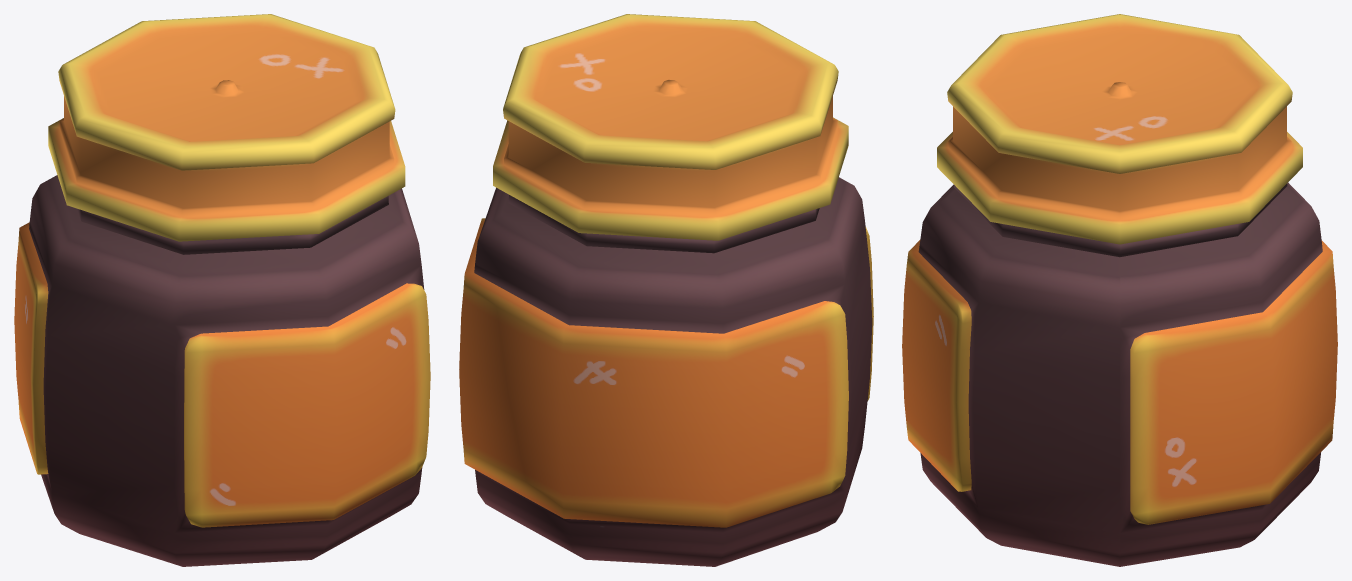
File: Vegimite_Full.fbx
The picture shows the model from 3 angles, left to right: view 1: azimuth 30°, elevation 25°; view 2: azimuth 150°, elevation 25°; view 3: azimuth 270°, elevation 25°; orthographic projection.
Visible parts, largest first — view 1: Vegimite_Full; view 2: Vegimite_Full; view 3: Vegimite_Full.
Boxes of the visible parts, x1,y1,x2,y2 form: Vegimite_Full: (14,14,430,566); Vegimite_Full: (459,14,873,566); Vegimite_Full: (902,14,1337,566).
Bounding box in the file's own units: 635 × 688 × 651.
